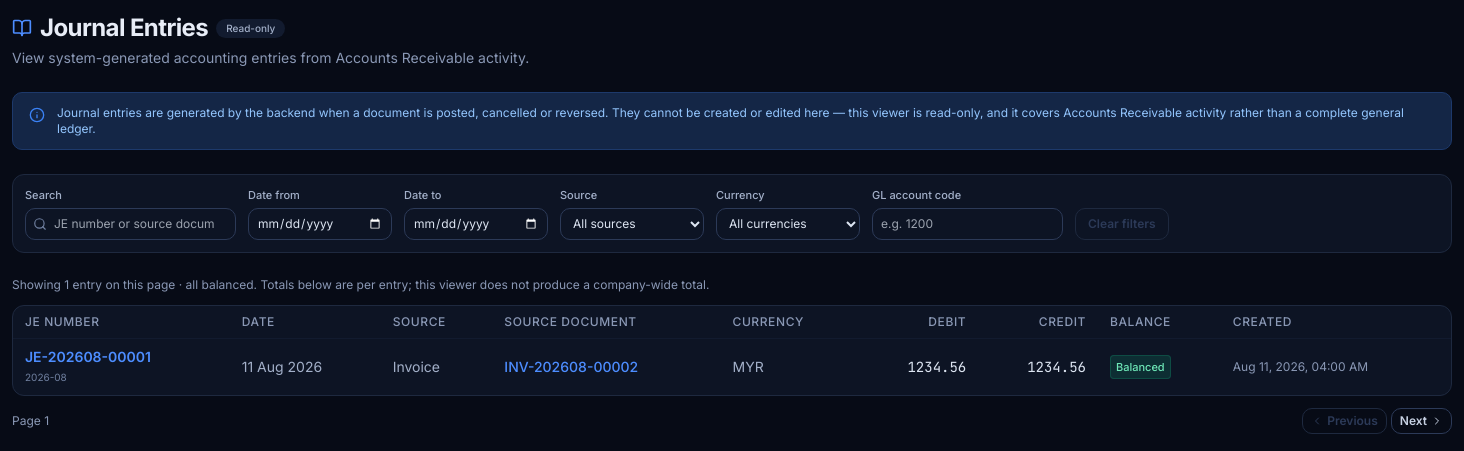
Scenario: Journal filters and pagination › resets the cursor chain when a filter changes
Expected: the link "JE-202608-00001" is shown, [25,348,151,364]
Click the button "Next". click: (1421, 420)
box: [1391,408,1452,434]
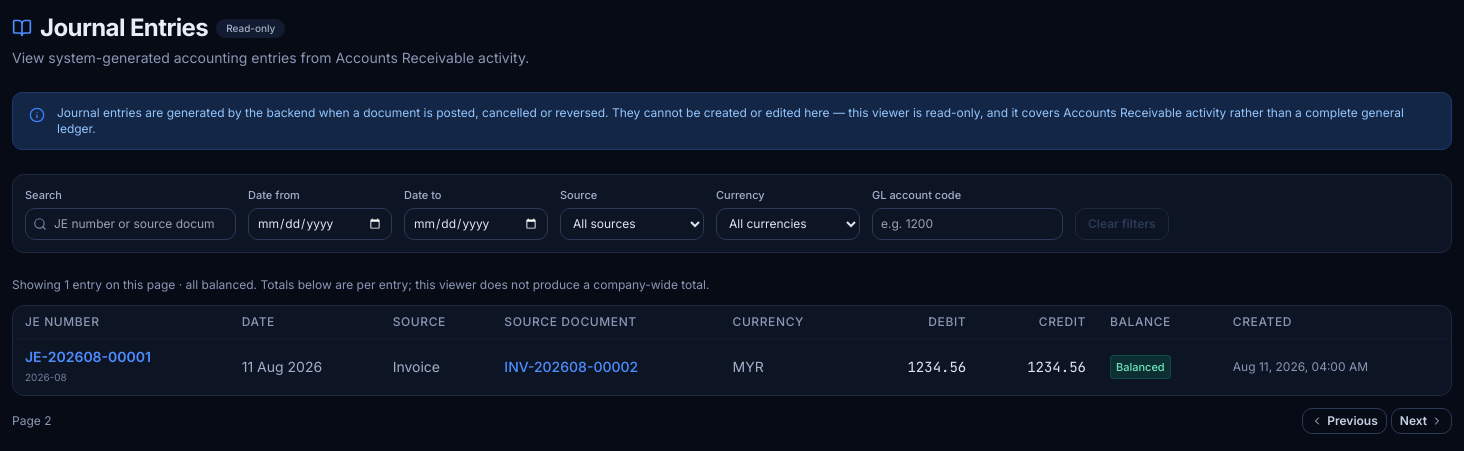
Expected: the text "Page 2" is shown, [12,412,52,428]
Select "Receipt" in the dropdown labelled "Source". click: (632, 224)
box: [560,208,704,240]
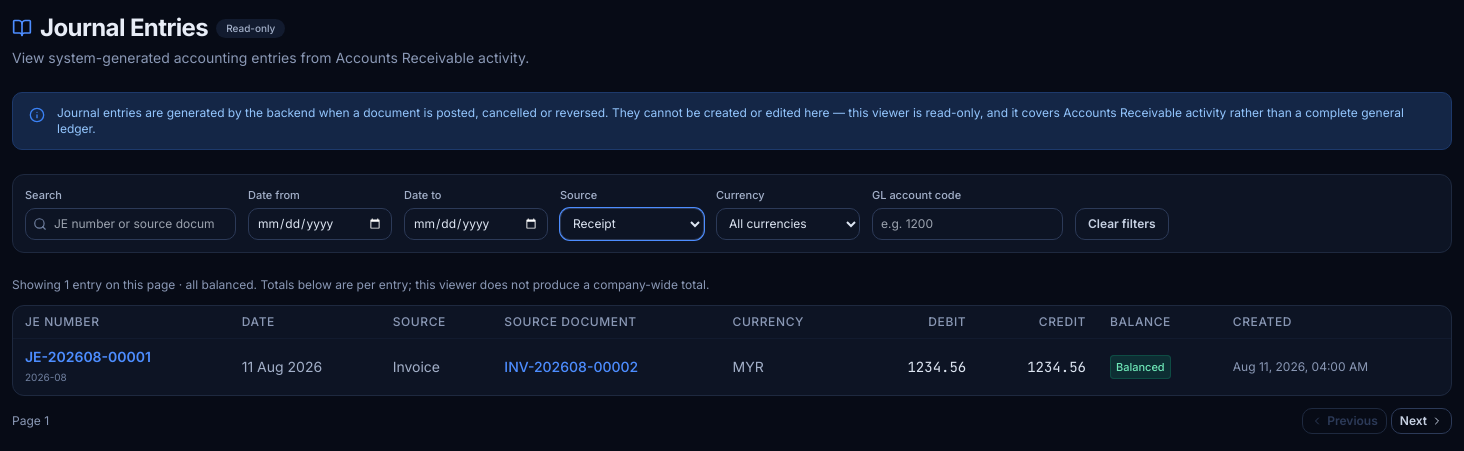
Expected: the text "Page 1" is shown, [12,412,49,428]
